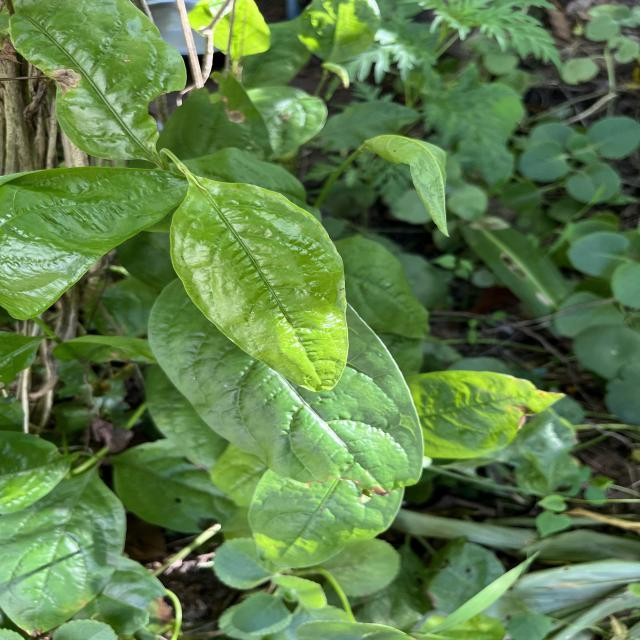Plumbago indica: (166, 170, 356, 400), (3, 0, 199, 161), (0, 162, 184, 325), (222, 458, 408, 584), (2, 470, 128, 640), (411, 366, 572, 466)
